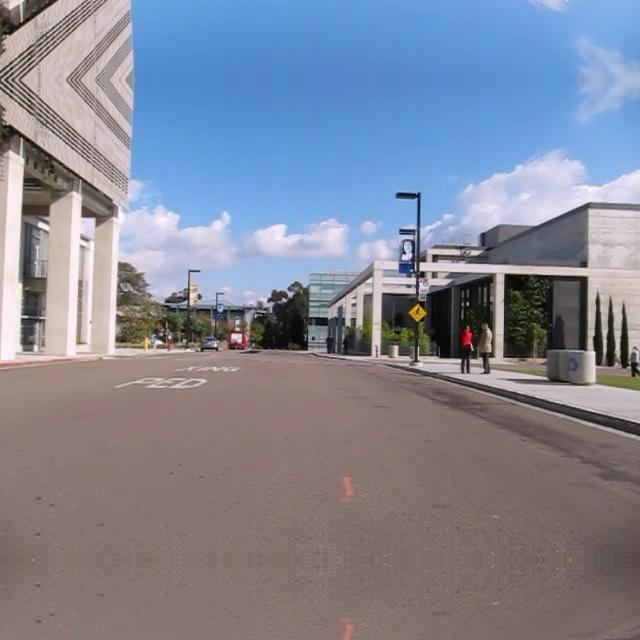pedestrianCrossing: (407, 302, 428, 324)
